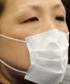with_mask: (1, 1, 70, 84)
